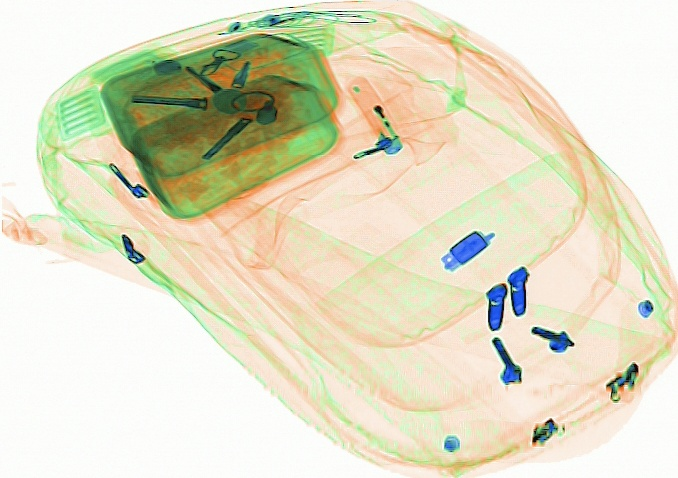lighter: (345, 73, 403, 155)
